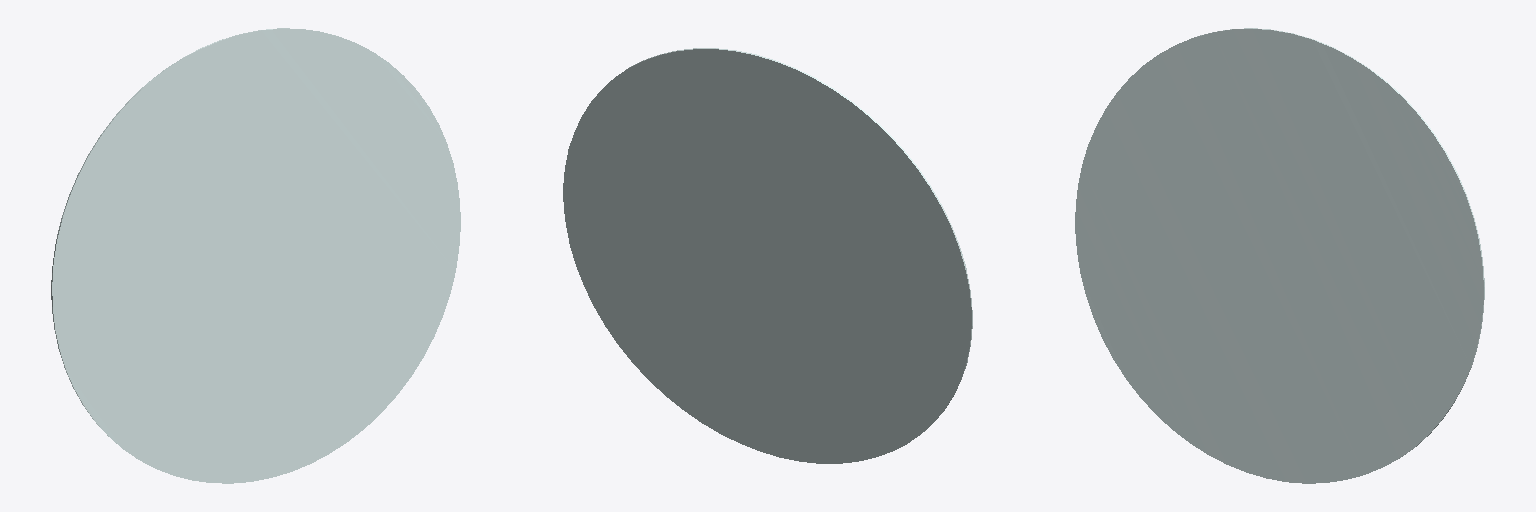
The picture shows the model from 3 angles: view 1: azimuth 30°, elevation 25°; view 2: azimuth 150°, elevation 25°; view 3: azimuth 330°, elevation 25°; orthographic projection.
Visible parts, largest first — view 1: Material.002_2; view 2: Material.002_2; view 3: Material.002_2.
Part boxes in pixels (left/top/right/bottom): Material.002_2: left=51, top=28, right=460, bottom=483; Material.002_2: left=563, top=48, right=972, bottom=463; Material.002_2: left=1075, top=28, right=1484, bottom=483.
Size of the model in its own units: 94.14 by 93.51 by 11.63.
1 materials, 1 textured.